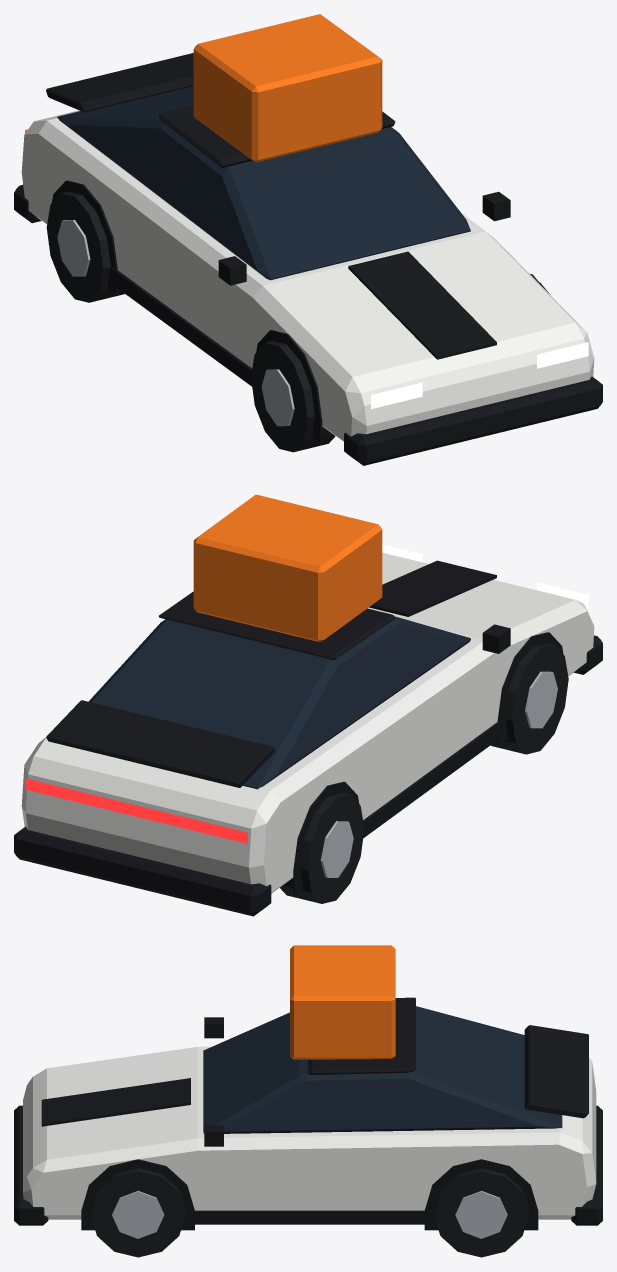
File: liftback.glb
3 renders of one model, top to bottom at view 1: azimuth 30°, elevation 25°; view 2: azimuth 150°, elevation 25°; view 3: azimuth 270°, elevation 25°, orthographic. The views are drawn at different scales.
Parts seen in each view (by area): view 1: tub, glasshouse, bag, bumper_f, stripe, spoiler, wheel_FL, wheel_RL, rocker_-1, roof, wheel_FL_hub, wheel_RL_hub (+6 smaller); view 2: tub, glasshouse, bag, spoiler, bumper_r, roof, wheel_RL, wheel_FL, stripe, rocker_-1, lamp_tail_bar, wheel_FL_hub (+4 smaller); view 3: tub, glasshouse, bag, spoiler, wheel_FR, wheel_RR, stripe, rocker_1, roof, wheel_RR_hub, wheel_FR_hub, arch_-1.3_1 (+5 smaller).
Boxes of the visible parts, left/top/right/bottom form: tub: left=21, top=110, right=594, bottom=441; glasshouse: left=57, top=86, right=470, bottom=280; bag: left=193, top=14, right=382, bottom=162; bumper_f: left=344, top=376, right=602, bottom=465; stripe: left=348, top=251, right=496, bottom=359; spoiler: left=46, top=53, right=193, bottom=112; wheel_FL: left=251, top=341, right=335, bottom=452; wheel_RL: left=46, top=191, right=124, bottom=302; rocker_-1: left=108, top=267, right=252, bottom=386; roof: left=159, top=105, right=395, bottom=167; wheel_FL_hub: left=261, top=369, right=294, bottom=426; wheel_RL_hub: left=57, top=220, right=90, bottom=276; tub: left=21, top=552, right=594, bottom=893; glasshouse: left=88, top=616, right=470, bottom=789; bag: left=193, top=494, right=382, bottom=641; spoiler: left=46, top=700, right=275, bottom=787; bumper_r: left=14, top=826, right=271, bottom=916; roof: left=159, top=591, right=394, bottom=659; wheel_RL: left=280, top=792, right=364, bottom=903; wheel_FL: left=491, top=643, right=568, bottom=754; stripe: left=369, top=560, right=496, bottom=616; rocker_-1: left=363, top=718, right=507, bottom=837; lamp_tail_bar: left=25, top=778, right=247, bottom=843; wheel_FL_hub: left=525, top=671, right=557, bottom=728; tub: left=23, top=1046, right=596, bottom=1219; glasshouse: left=203, top=1006, right=562, bottom=1133; bag: left=290, top=945, right=395, bottom=1059; spoiler: left=524, top=1025, right=588, bottom=1118; wheel_FR: left=90, top=1168, right=185, bottom=1257; wheel_RR: left=434, top=1168, right=528, bottom=1257; stripe: left=41, top=1078, right=190, bottom=1126; rocker_1: left=182, top=1210, right=436, bottom=1224; roof: left=308, top=997, right=415, bottom=1074; wheel_RR_hub: left=455, top=1191, right=507, bottom=1238; wheel_FR_hub: left=112, top=1191, right=164, bottom=1238; arch_-1.3_1: left=424, top=1159, right=538, bottom=1230.
Bounding box in the file's own units: 2.06 × 1.95 × 4.46.
